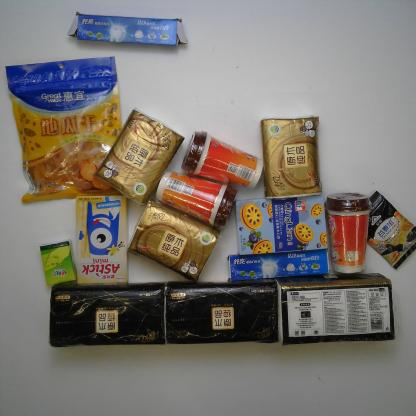Dessert: (232, 191, 330, 256), (72, 194, 130, 289)
Dried Fruit: (5, 55, 131, 205)
Instant Drink: (179, 128, 267, 192), (153, 169, 242, 232), (322, 191, 376, 276), (363, 190, 416, 271)
Personal Hygiene: (66, 10, 190, 48), (226, 246, 332, 284)
Tissue: (91, 107, 186, 209), (274, 271, 396, 348), (125, 194, 223, 285), (48, 280, 169, 349), (162, 278, 280, 346), (259, 116, 328, 199), (38, 238, 81, 289)
